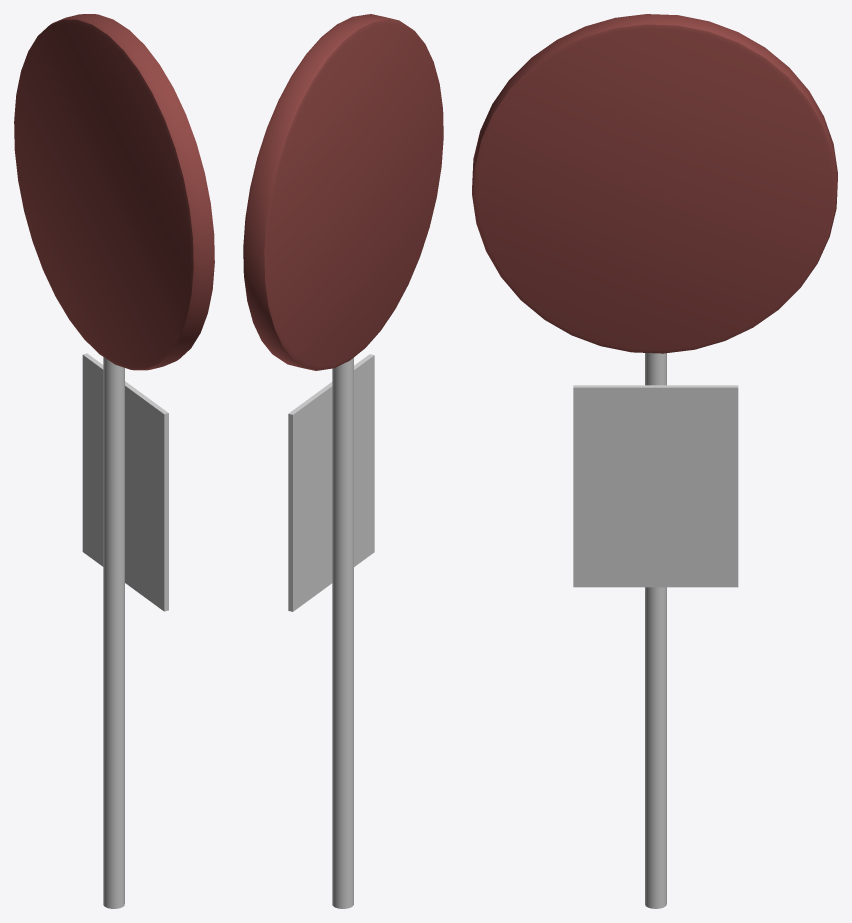
The model's file is Stop_sign.fbx.
3 views of the same model, side by side, from view 1: azimuth 30°, elevation 25°; view 2: azimuth 150°, elevation 25°; view 3: azimuth 270°, elevation 25° (orthographic).
Visible parts, largest first — view 1: Cylinder029, Box1384, Cylinder028; view 2: Cylinder029, Box1384, Cylinder028; view 3: Cylinder029, Box1384, Cylinder028.
Part boxes in pixels (x1=…): Cylinder029: x1=14, y1=14, x2=214, y2=370; Box1384: x1=82, y1=353, x2=168, y2=611; Cylinder028: x1=103, y1=357, x2=124, y2=908; Cylinder029: x1=243, y1=14, x2=443, y2=370; Box1384: x1=288, y1=354, x2=374, y2=611; Cylinder028: x1=332, y1=357, x2=353, y2=908; Cylinder029: x1=472, y1=14, x2=837, y2=353; Box1384: x1=573, y1=385, x2=738, y2=587; Cylinder028: x1=645, y1=353, x2=666, y2=908.
Bounding box in the file's own units: 6.95 × 226 × 84.43.
